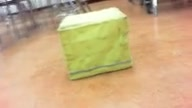cube: (57, 5, 134, 79)
